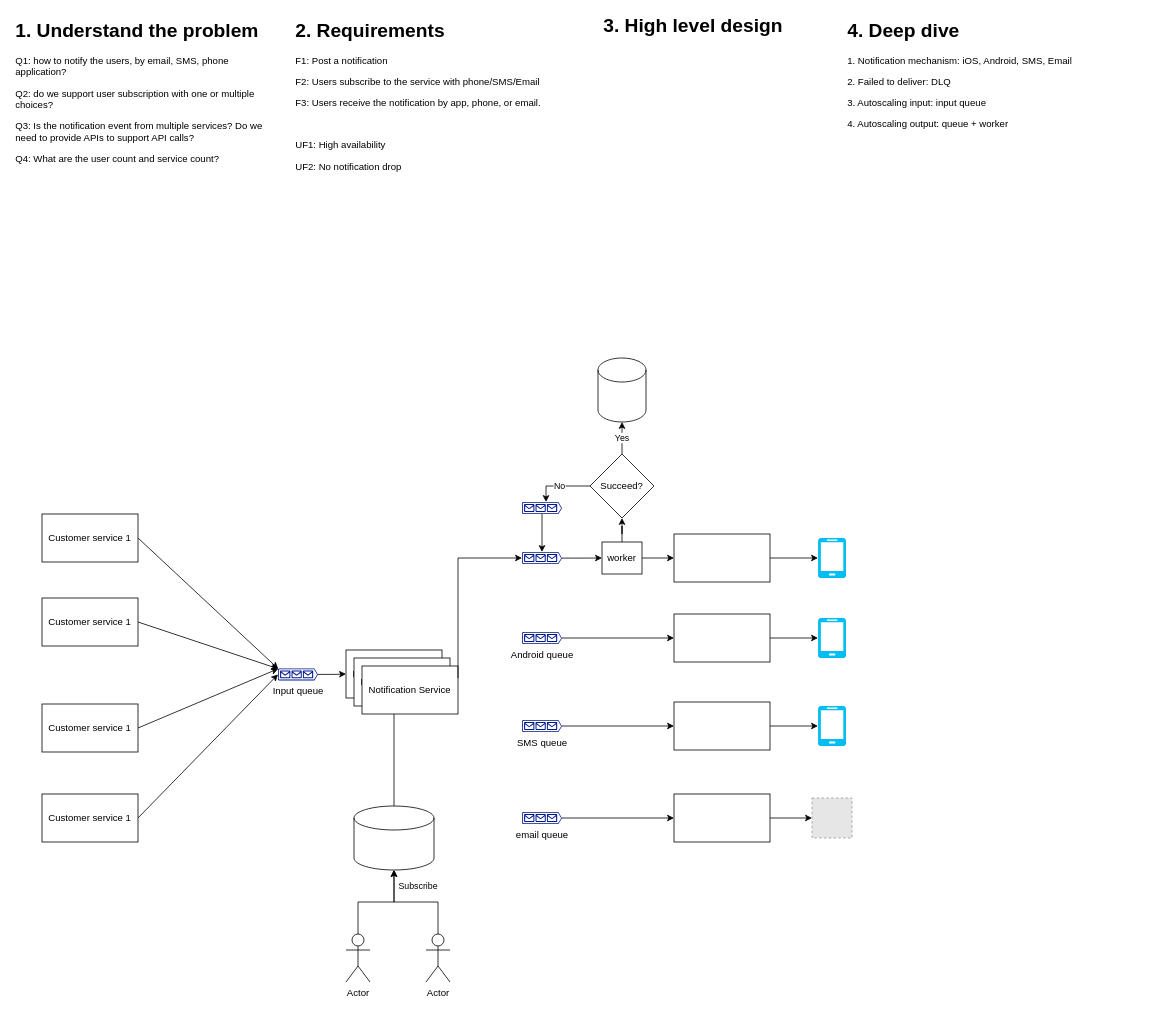
Some shapes in this 1163 by 1012 pixel diagram are drawn without their labels. Grey dashed boxes stand in for pictures. Each missing label, with the centre of its shape:
"Android: FCM" goes at [721,637].
"Email" goes at [721,817].
"iOS DLQ" goes at [542,508].
"iOS queue" goes at [542,558].
"iOS: APN" goes at [721,557].
"Message status" goes at [621,389].
"SMS" goes at [721,725].
"User: subscription" goes at [393,837].
